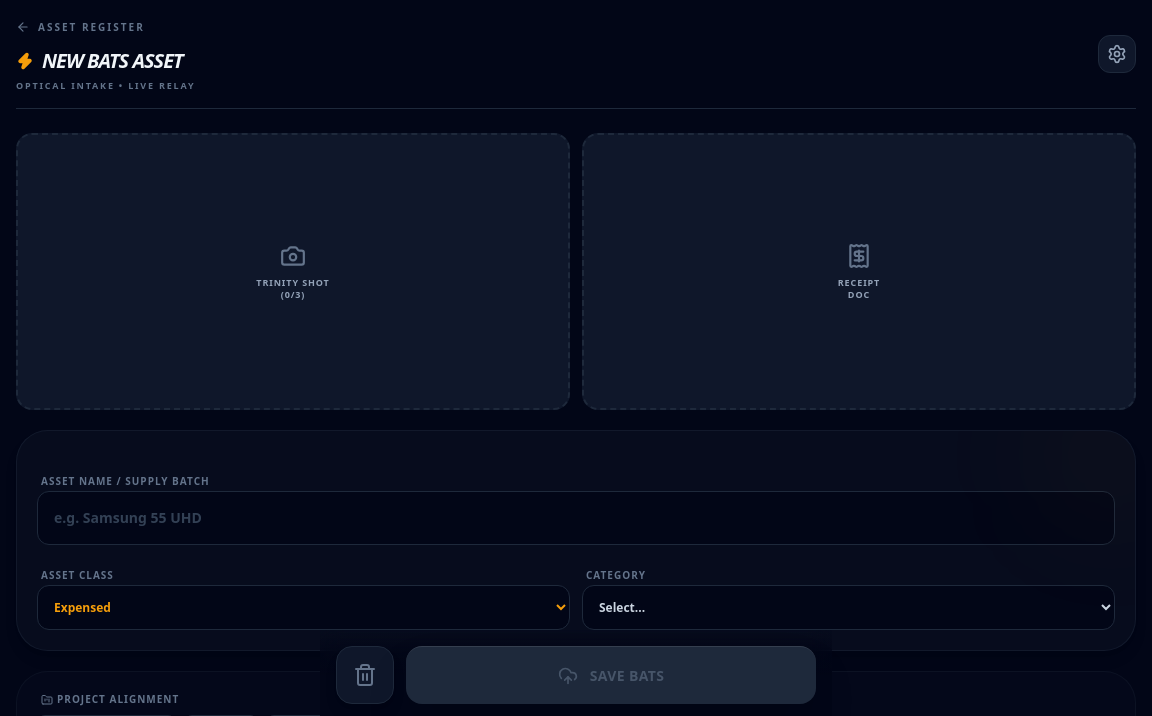
Scenario: BATS intake UI › purges intake state after reset confirmation
The image size is (1152, 716).
Type "Temporary Asset" into the field with placeholder "e.g. Samsung 55 UHD".
click(576, 518); type("Temporary Asset")  # box 37,491 -> 1115,545
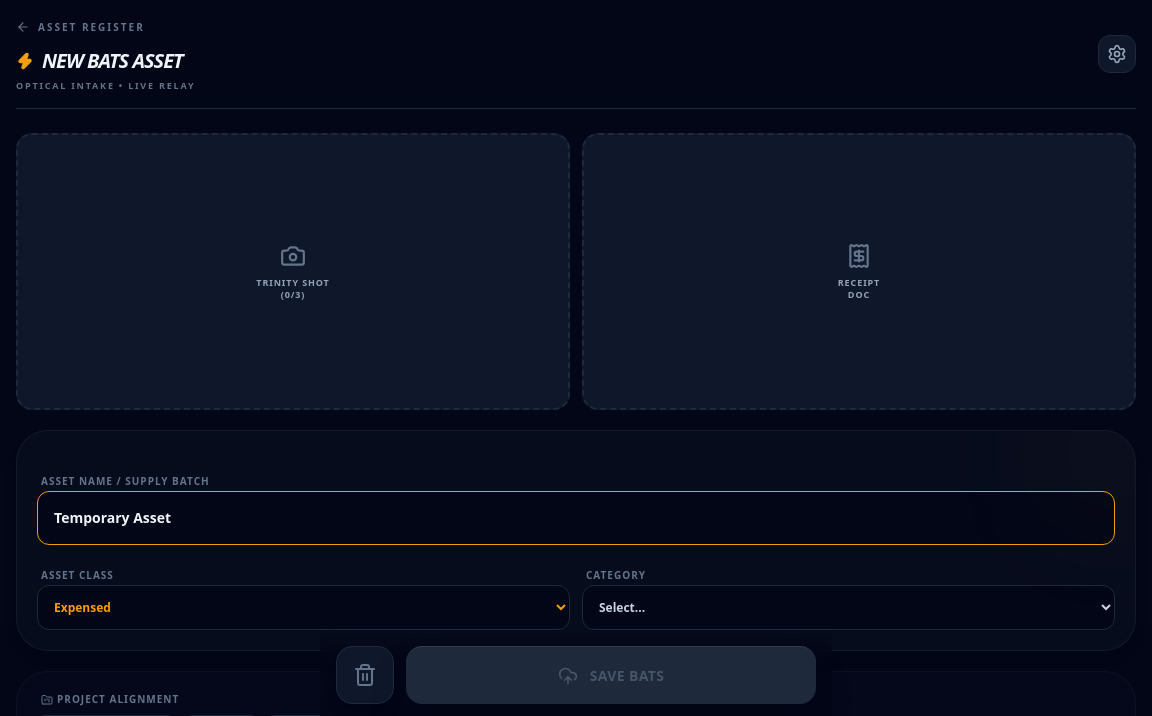
Select "Computing" in the dropdown below "Category" at (848, 608), box 582,585 -> 1115,630
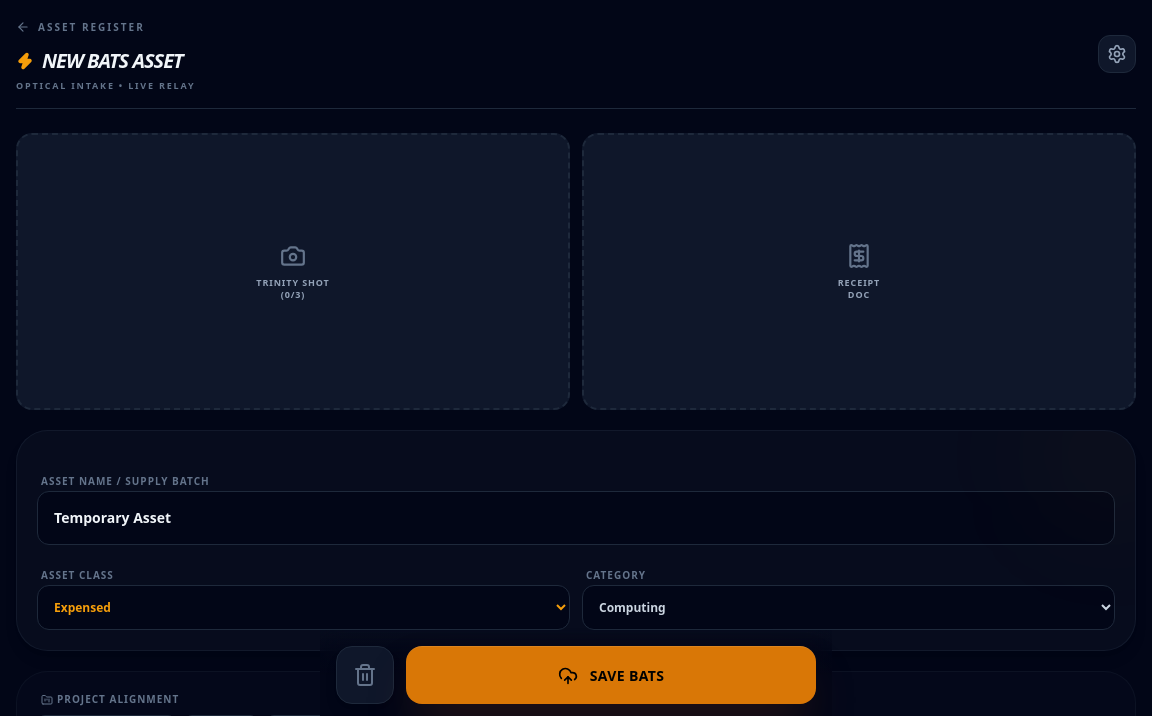
Expected: the button "SAVE BATS" is enabled, 406,646 -> 816,704
Click the 4th button.
click(365, 675)  # box 336,646 -> 394,704
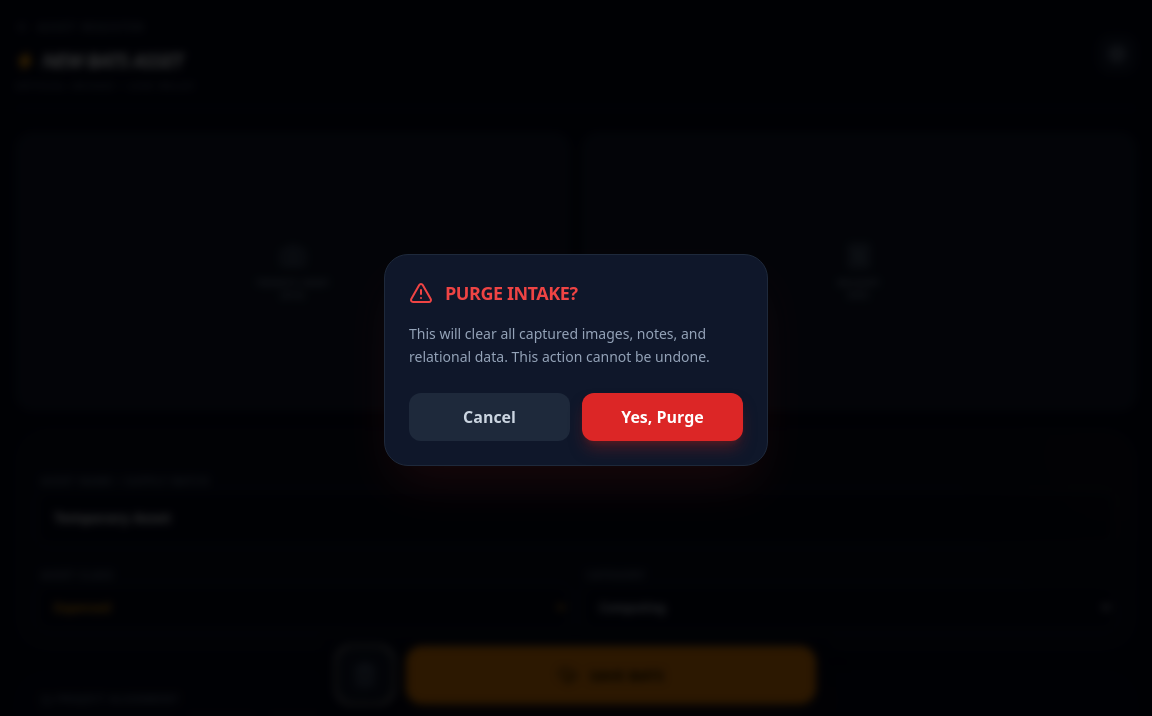
Expected: the heading "Purge Intake?" is shown, 445,279 -> 578,307
Click the button "Yes, Purge".
click(662, 417)  # box 582,393 -> 743,441
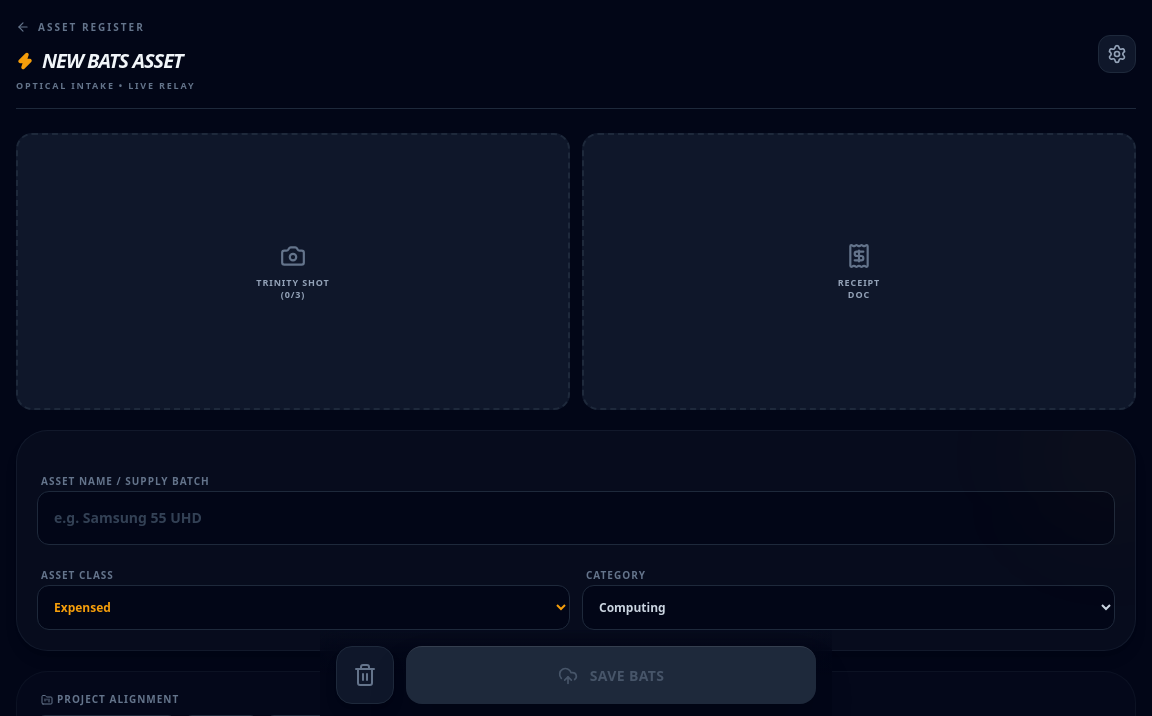
Expected: the field with placeholder "e.g. Samsung 55 UHD" is empty, 37,491 -> 1115,545
Expected: the button "SAVE BATS" is disabled, 406,646 -> 816,704
